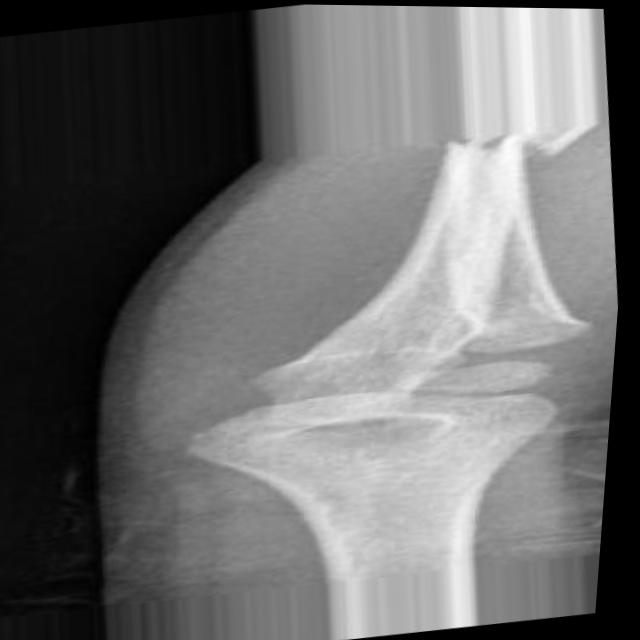fracture: (434, 109, 601, 178)
